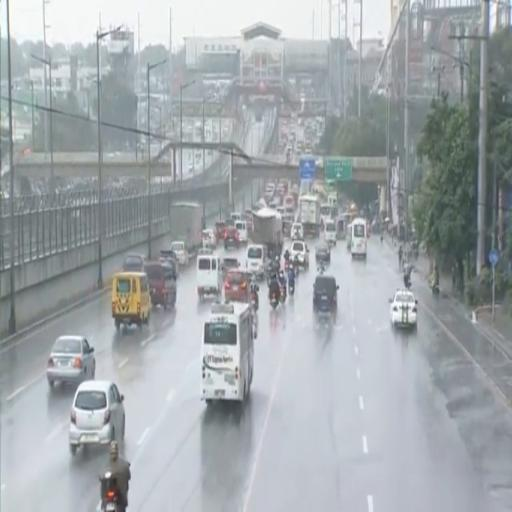bus: (201, 302, 255, 404), (351, 218, 367, 259)
car: (69, 380, 125, 455), (47, 335, 95, 387), (389, 290, 417, 328), (313, 275, 338, 314), (225, 269, 251, 302), (289, 240, 309, 268), (159, 250, 179, 277), (170, 242, 189, 266), (122, 253, 145, 271), (224, 227, 240, 249), (315, 242, 330, 263), (222, 258, 240, 274), (203, 229, 217, 248), (291, 222, 303, 239), (198, 247, 212, 255)
motorcycle: (100, 472, 120, 511), (251, 290, 258, 311), (270, 294, 278, 310), (280, 285, 286, 303), (404, 276, 411, 290), (294, 262, 299, 278), (289, 281, 294, 296), (285, 261, 290, 273)
truck: (170, 202, 203, 257), (252, 207, 282, 257), (298, 196, 320, 237)
